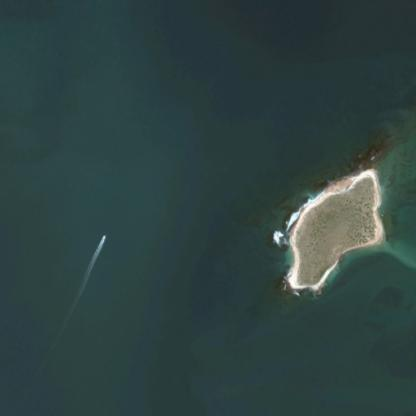ship: (103, 231, 105, 235)
